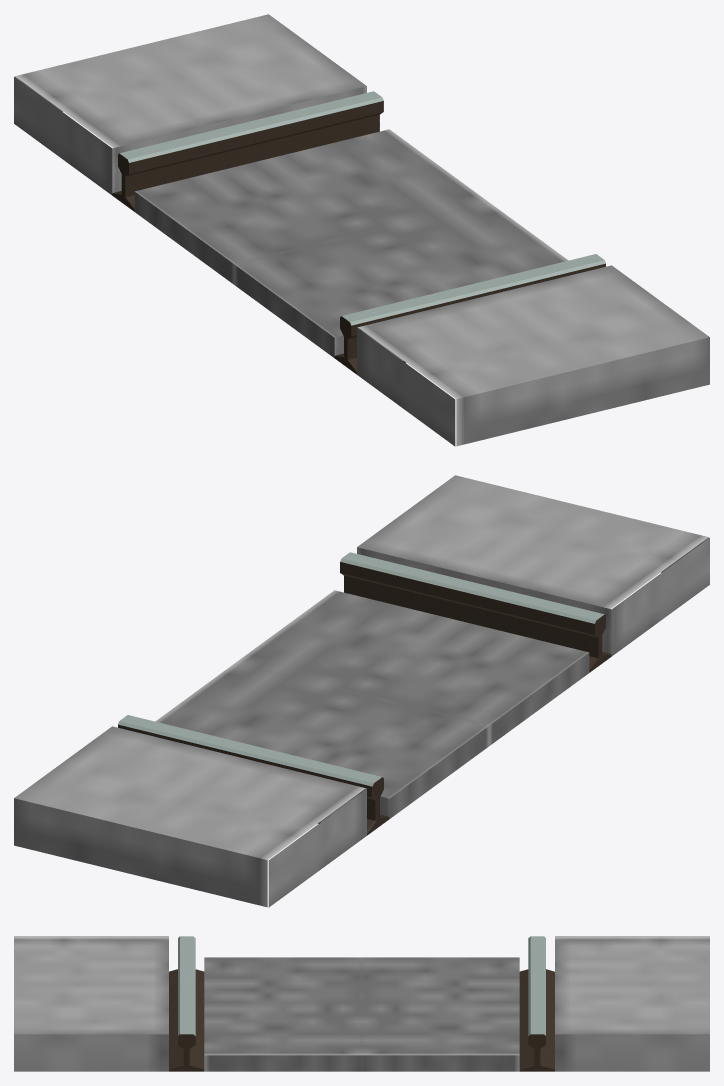
Rendered from spsf_tramtracks3.obj.
3 renders of one model, top to bottom at view 1: azimuth 30°, elevation 25°; view 2: azimuth 150°, elevation 25°; view 3: azimuth 270°, elevation 25°, orthographic. The views are drawn at different scales.
Parts seen in each view (by area): view 1: RAIL_BASE, RAIL_RIGHT, RAIL_LEFT; view 2: RAIL_BASE, RAIL_LEFT, RAIL_RIGHT; view 3: RAIL_BASE, RAIL_LEFT, RAIL_RIGHT.
Boxes of the visible parts, x1,y1,x2,y2 form: RAIL_BASE: (14,14,709,446); RAIL_RIGHT: (112,91,383,211); RAIL_LEFT: (334,254,605,374); RAIL_BASE: (14,475,709,907); RAIL_LEFT: (340,552,611,672); RAIL_RIGHT: (118,715,389,835); RAIL_BASE: (14,936,709,1071); RAIL_LEFT: (169,936,204,1071); RAIL_RIGHT: (519,936,554,1071).
Bounding box in the file's own units: 1 × 0.1778 × 3.
Materials: 1 (1 with a texture image).
